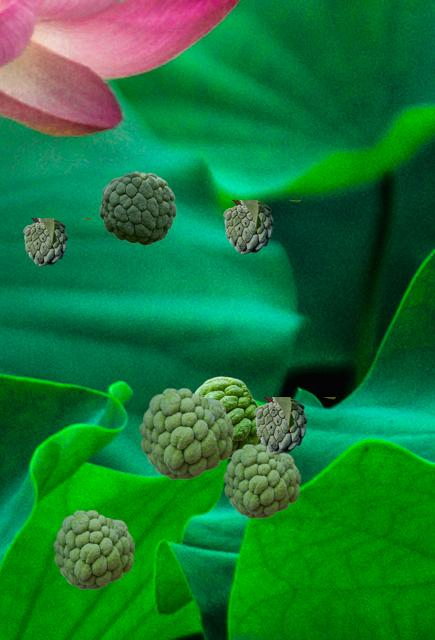atis: (139, 388, 232, 478), (53, 510, 133, 588), (223, 444, 299, 517), (99, 171, 175, 244), (194, 376, 260, 457), (254, 397, 334, 453), (223, 200, 299, 253), (23, 218, 90, 265)
